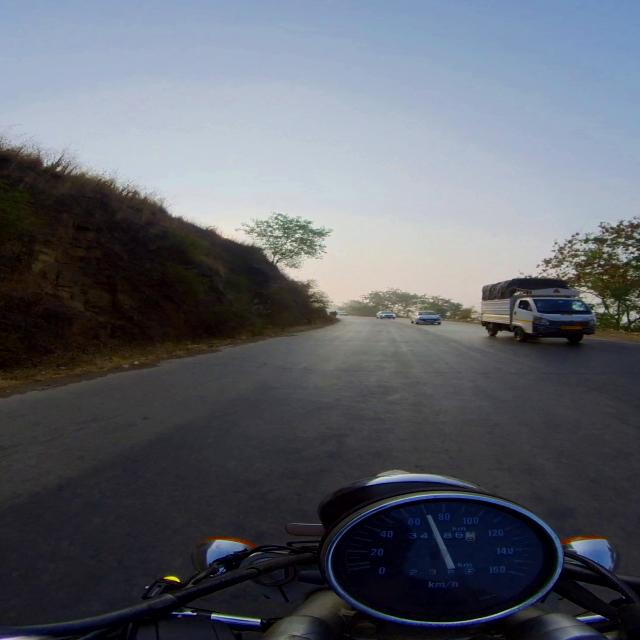car: (410, 311, 442, 324), (377, 312, 396, 319), (337, 311, 347, 315)
motorcycle: (0, 471, 639, 639)
